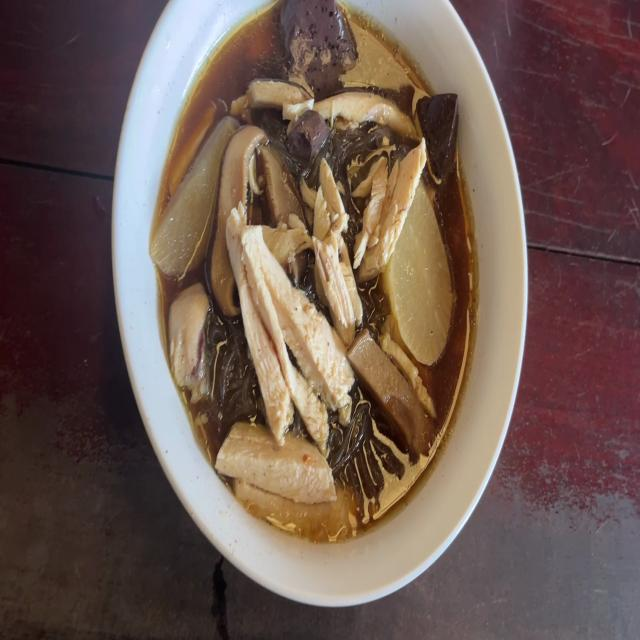boiled_chicken_blood_jelly: (269, 0, 357, 91), (418, 84, 463, 167), (288, 105, 322, 155)
chicken_shredded: (233, 215, 339, 431), (222, 428, 344, 529), (362, 146, 428, 262), (318, 169, 356, 326), (311, 79, 416, 133), (167, 284, 205, 378), (251, 76, 308, 116)
daikon_radish: (150, 118, 230, 274), (399, 198, 450, 350)
noodle: (156, 0, 477, 543)
